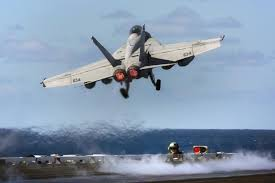fighter: (36, 21, 230, 102)
